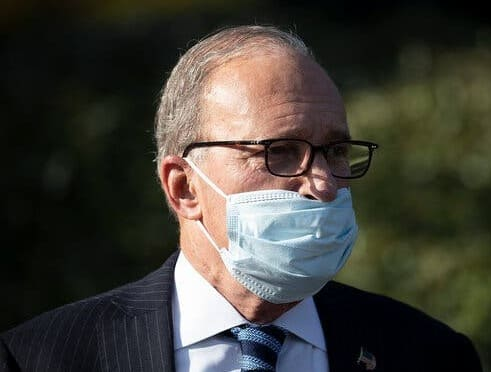with_incorrect_mask: (194, 63, 359, 301)
